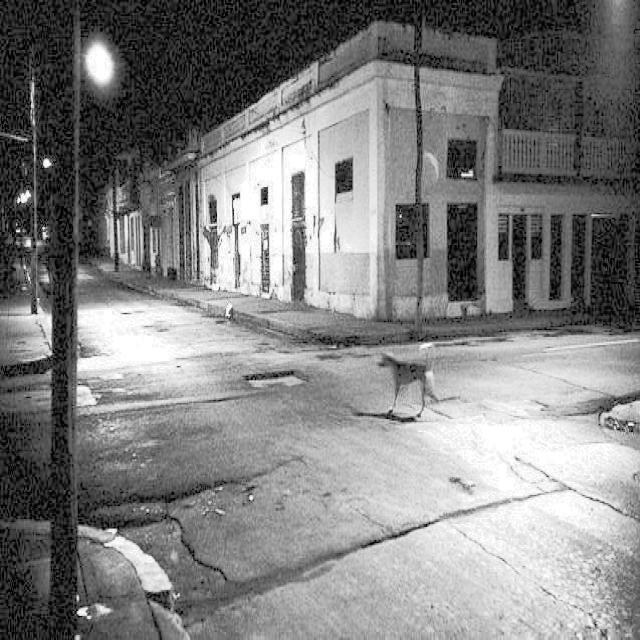Dog: (352, 314, 466, 432)
